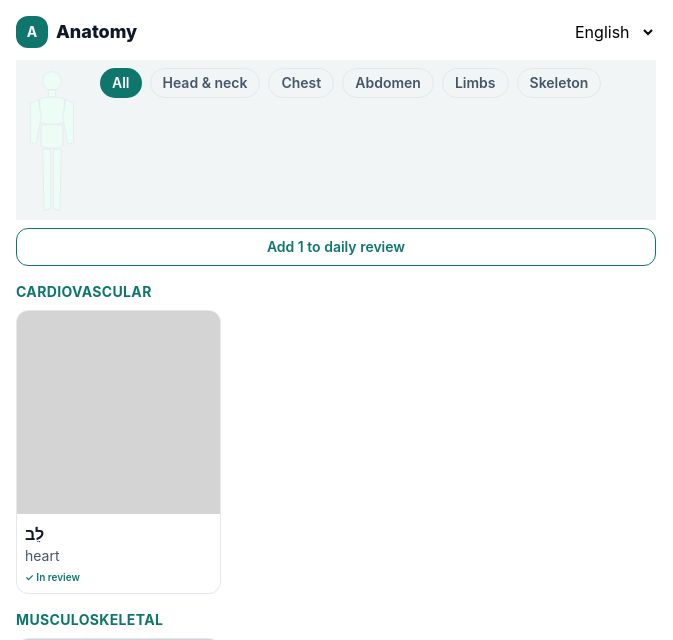
AnatomyPage › filters to one region when a region chip is clicked
Expected: the text "heart" is shown, [25,547,60,564]
Click the button "Limbs": coordinates (475, 83) [442,68,508,98]
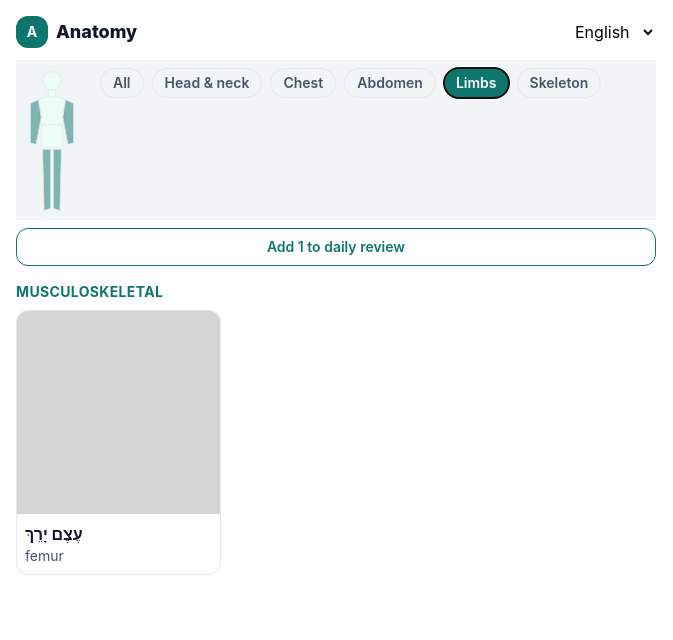
Expected: the text "femur" is shown, [25,547,64,564]
Result: the text "heart" is gone
